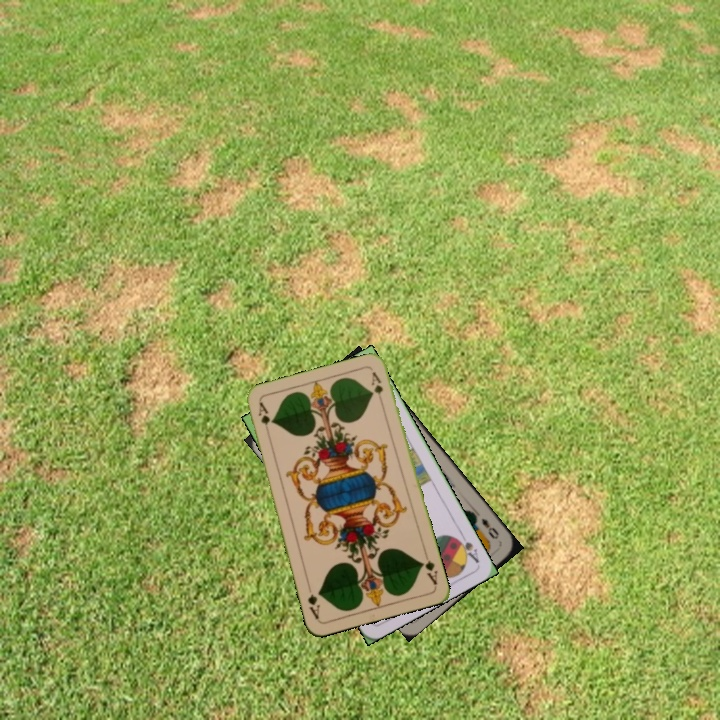EO: (477, 514, 502, 542)
GA: (417, 548, 440, 588), (254, 398, 273, 439)
SA: (451, 528, 482, 566)
